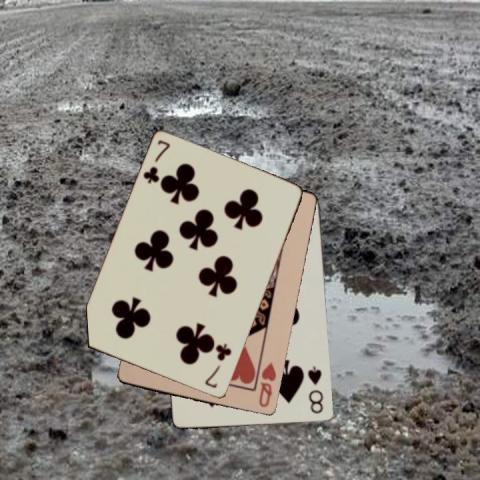7c: (140, 138, 172, 186), (202, 341, 233, 390)
8s: (305, 363, 325, 416)
Qh: (256, 360, 278, 410)
